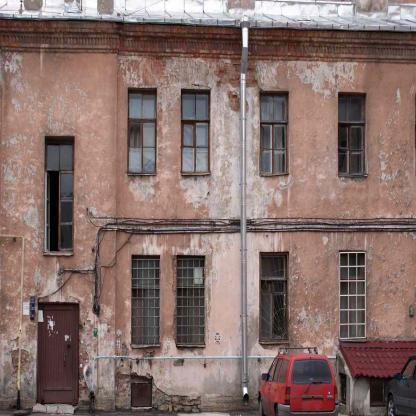Dont: (258, 347, 339, 416), (384, 354, 416, 416)
Door: (38, 303, 79, 404)
Floor Slab: (0, 198, 416, 207)
Ground Floor: (0, 207, 416, 409)
Molding: (0, 27, 416, 63)
Roof: (0, 0, 416, 32), (339, 342, 416, 379)
Top Floor: (0, 37, 416, 198)
Window: (44, 136, 75, 253), (176, 255, 206, 346), (260, 252, 289, 342), (181, 88, 211, 173), (132, 254, 160, 345), (128, 87, 157, 173), (338, 92, 368, 174), (260, 91, 289, 174), (340, 251, 366, 340), (370, 378, 394, 409)
